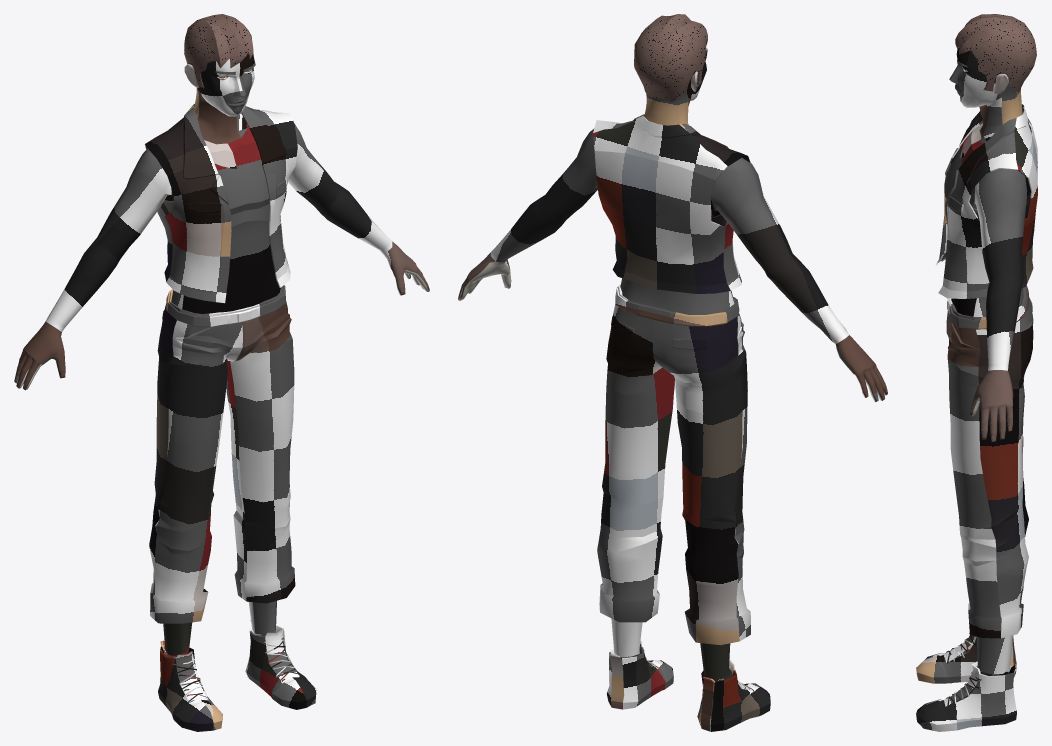
File: male 4.fbx
3 renders of one model, left to right at view 1: azimuth 30°, elevation 25°; view 2: azimuth 150°, elevation 25°; view 3: azimuth 270°, elevation 25°, orthographic. The views are drawn at different scales.
Visible parts, largest first — view 1: 2019; view 2: 2019; view 3: 2019.
Boxes of the visible parts, x1=… form: 2019: x1=14, y1=14, x2=429, y2=731; 2019: x1=458, y1=14, x2=887, y2=731; 2019: x1=916, y1=14, x2=1037, y2=731.
Size of the model in its own units: 1.17 by 1.84 by 0.2978.
